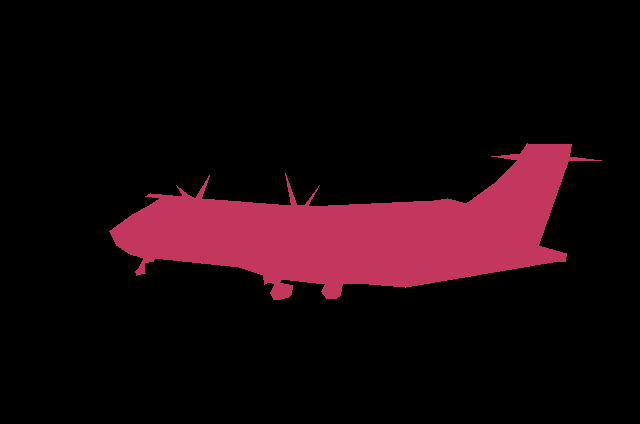Airplane: (109, 143, 601, 299)
